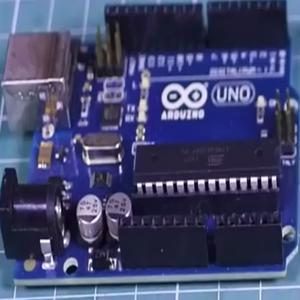duino: (6, 4, 296, 274)
